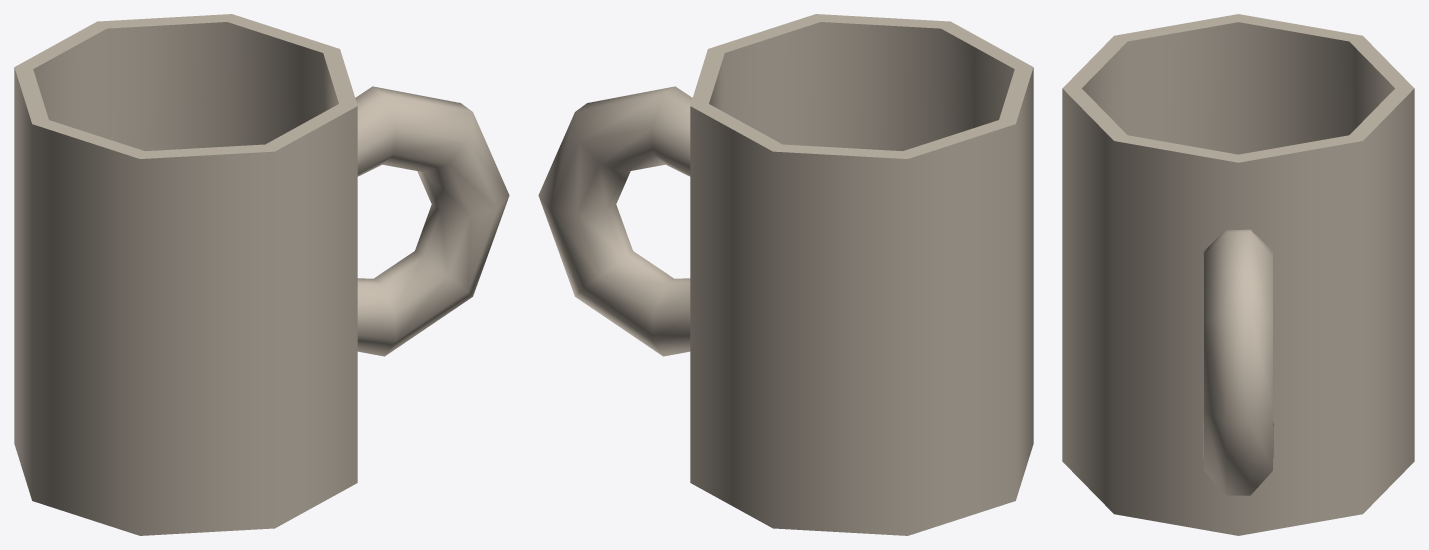
Rendered from sercups_mug_001.glb.
3 renders of one model, left to right at view 1: azimuth 30°, elevation 25°; view 2: azimuth 150°, elevation 25°; view 3: azimuth 270°, elevation 25°, orthographic.
Parts seen in each view (by area): view 1: sercups mug.001; view 2: sercups mug.001; view 3: sercups mug.001.
Boxes of the visible parts, x1,y1,x2,y2 form: sercups mug.001: (14,14,509,535); sercups mug.001: (538,14,1033,535); sercups mug.001: (1062,14,1414,535).
Size of the model in its own units: 3.06 by 2.37 by 2.
Materials: 1 (1 with a texture image).
